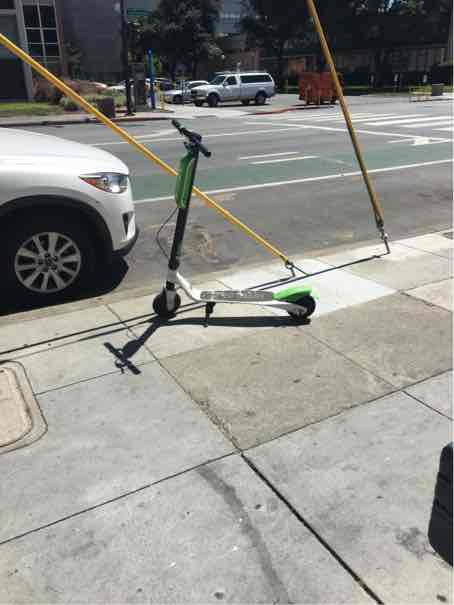scooter: (141, 122, 323, 336)
